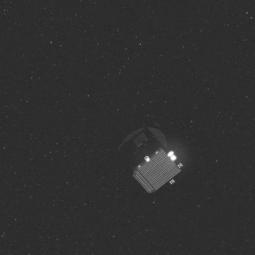proba_3_ocs: (104, 118, 184, 198)
